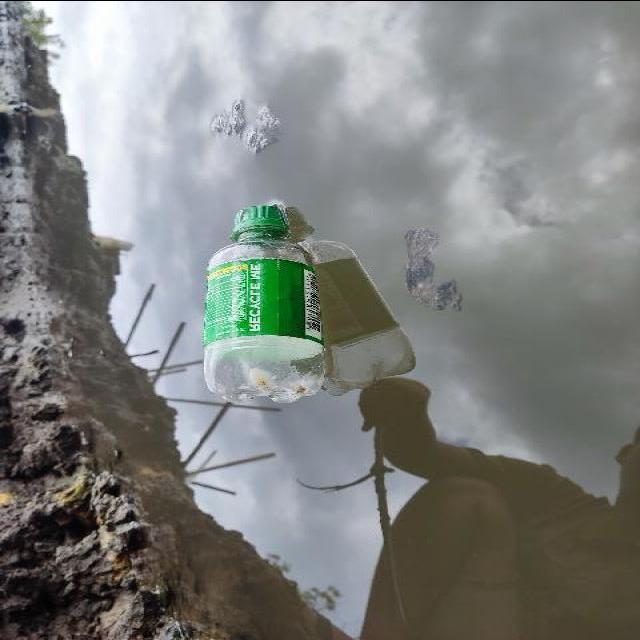Bottle: (196, 194, 332, 412)
